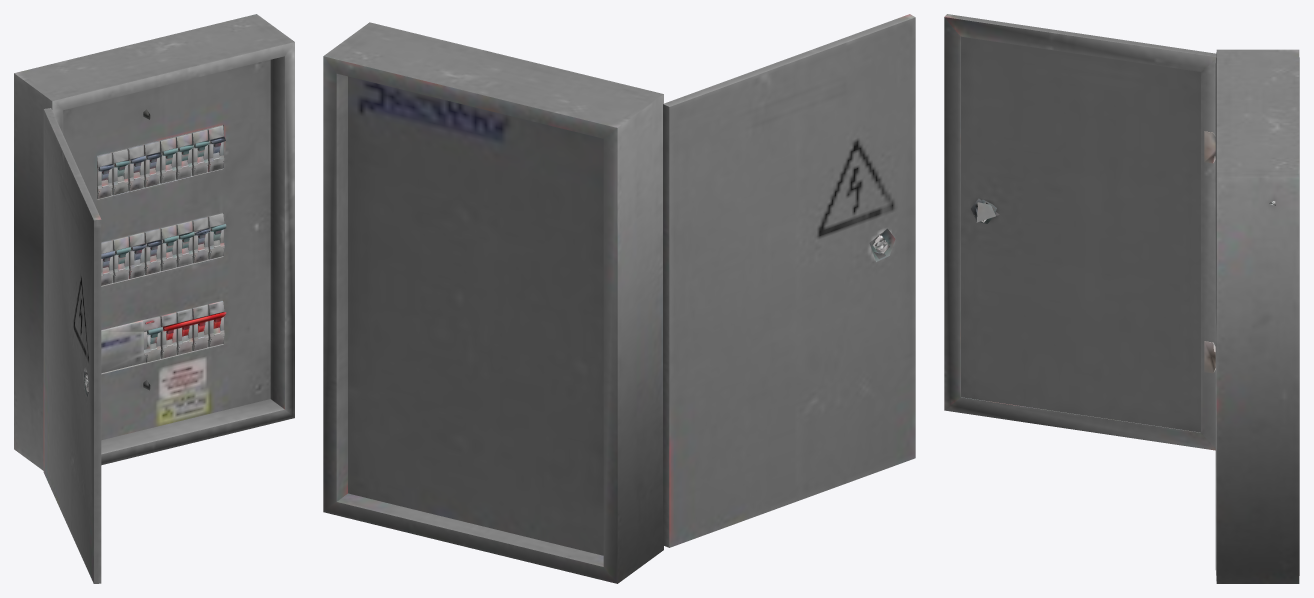
The model's file is power_box_01.glb.
The picture shows the model from 3 angles, left to right: view 1: azimuth 30°, elevation 25°; view 2: azimuth 150°, elevation 25°; view 3: azimuth 270°, elevation 25°; orthographic projection. The views are drawn at different scales.
Visible parts, largest first — view 1: power_box_01_box, power_box_01_door; view 2: power_box_01_box, power_box_01_door; view 3: power_box_01_door, power_box_01_box.
Boxes of the visible parts, x1,y1,x2,y2 form: power_box_01_box: (14, 14, 294, 470); power_box_01_door: (43, 108, 101, 583); power_box_01_box: (323, 22, 663, 583); power_box_01_door: (663, 14, 915, 547); power_box_01_door: (944, 14, 1216, 450); power_box_01_box: (1215, 49, 1299, 583).
Bounding box in the file's own units: 0.4608 × 0.5031 × 0.399.
Materials: 1 (1 with a texture image).
